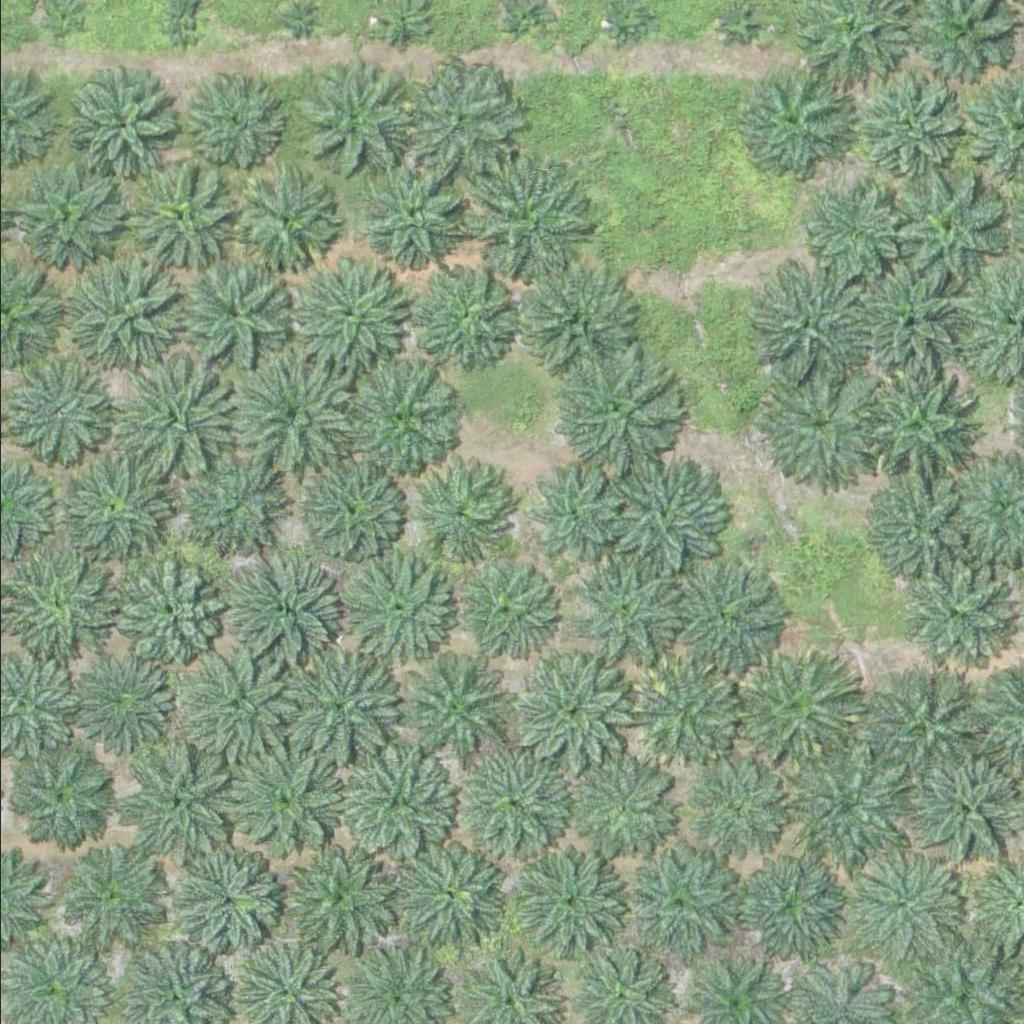Kelapa_Sawit: (879, 161, 1005, 286), (743, 261, 869, 386), (858, 360, 984, 485), (754, 364, 880, 489), (600, 451, 726, 576), (547, 345, 673, 470), (462, 162, 588, 287), (229, 352, 355, 477), (339, 354, 465, 479), (61, 249, 187, 374), (113, 356, 239, 481), (726, 644, 851, 769), (854, 62, 968, 175), (792, 175, 906, 288), (520, 264, 634, 377), (736, 66, 849, 179), (863, 467, 976, 580), (906, 754, 1019, 867), (726, 850, 839, 963), (515, 840, 628, 953), (519, 658, 632, 771), (392, 655, 505, 768), (279, 649, 392, 762), (345, 548, 458, 661), (171, 648, 284, 761), (228, 742, 341, 855), (294, 254, 407, 367), (177, 253, 290, 366), (113, 746, 226, 859), (68, 642, 181, 755), (222, 549, 336, 661), (4, 160, 118, 272), (121, 163, 235, 275), (848, 259, 961, 371), (900, 558, 1013, 670), (870, 669, 983, 781), (783, 751, 896, 863), (394, 836, 507, 948), (276, 843, 389, 955), (567, 749, 680, 861), (457, 750, 570, 862), (341, 748, 454, 860), (163, 846, 276, 958), (402, 63, 515, 175), (296, 72, 409, 184), (46, 838, 159, 950), (110, 557, 223, 669), (56, 452, 169, 564), (853, 858, 954, 958), (629, 853, 730, 953), (686, 756, 787, 856), (636, 662, 737, 762), (674, 572, 775, 672), (576, 560, 677, 660), (455, 556, 556, 656), (523, 462, 624, 562), (364, 165, 465, 265), (236, 171, 337, 271), (8, 748, 109, 848), (409, 460, 509, 560), (300, 458, 400, 558), (177, 443, 277, 543), (416, 264, 516, 364), (71, 76, 171, 176), (187, 81, 275, 168), (283, 7, 308, 32)
